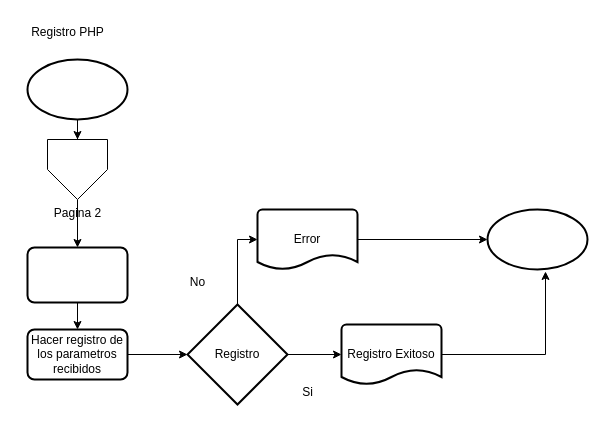
This 605x424 diagram has some shape labels left out. The box of each missing label's shape, as (x1, y1, x2, y2) in pixels:
Fin: (486, 208, 588, 270)
Inicio: (26, 58, 128, 120)
Recive los parametros por metodo GET: (26, 246, 128, 303)
